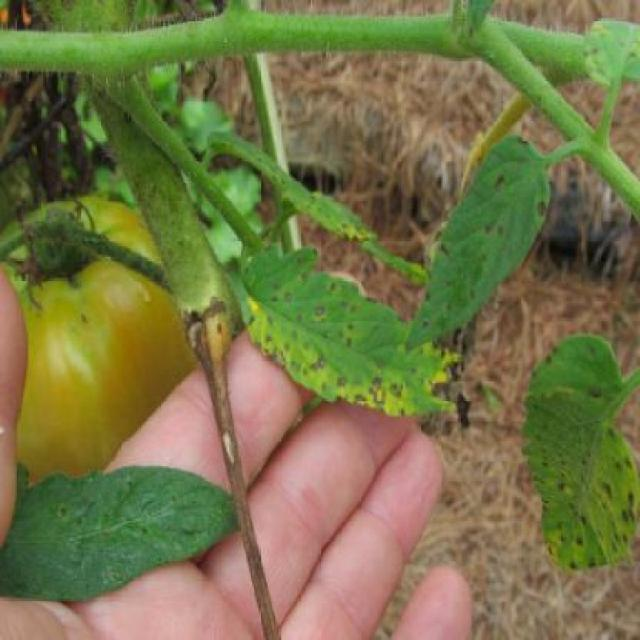Septoria leaf spot: (234, 246, 463, 427), (3, 461, 237, 603), (398, 141, 546, 358), (523, 332, 632, 576)
